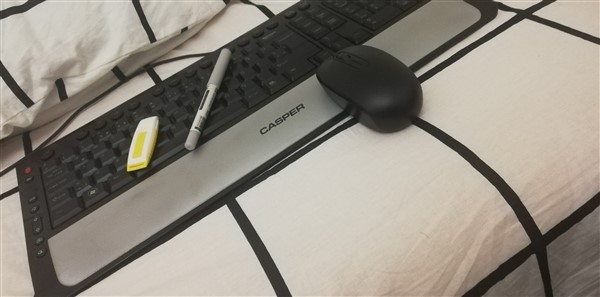flash disk: (125, 113, 161, 175)
klavye: (16, 1, 505, 297)
mouse: (315, 44, 427, 132)
pilot kalem: (181, 45, 236, 152)
